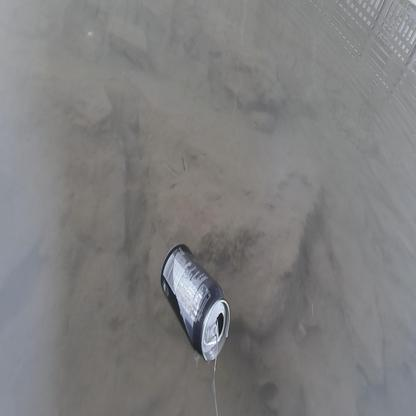can: (159, 243, 232, 363)
